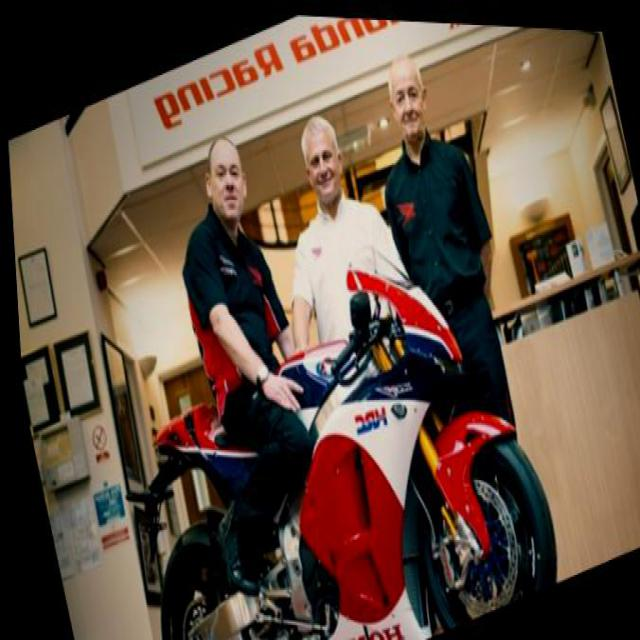HRC RCV 213: (88, 170, 563, 638)
